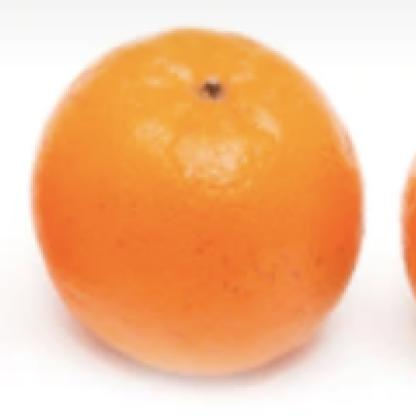fresh: (33, 28, 362, 378)
